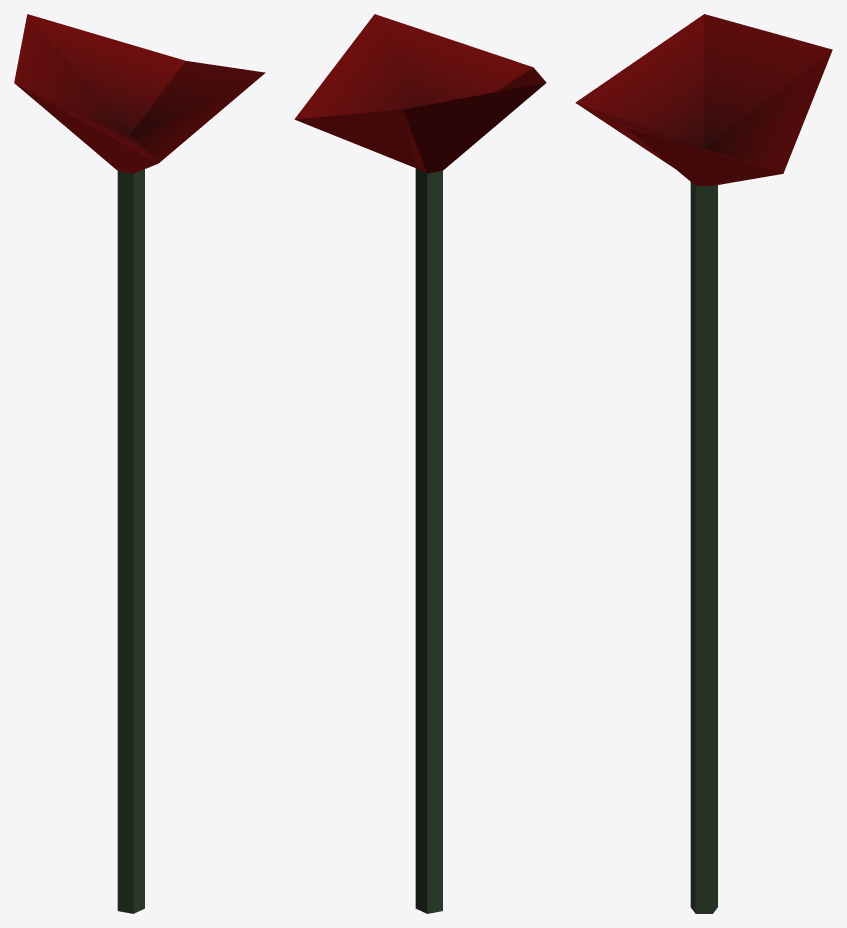
The model's file is Prop_FlowerB.fbx.
3 renders of one model, left to right at view 1: azimuth 30°, elevation 25°; view 2: azimuth 150°, elevation 25°; view 3: azimuth 270°, elevation 25°, orthographic.
Parts seen in each view (by area): view 1: Prop_FlowerB; view 2: Prop_FlowerB; view 3: Prop_FlowerB.
Boxes of the visible parts, x1,y1,x2,y2 form: Prop_FlowerB: (14, 14, 265, 913); Prop_FlowerB: (294, 14, 546, 913); Prop_FlowerB: (575, 14, 832, 913).
Size of the model in its own units: 8.31 by 32.03 by 8.89.
